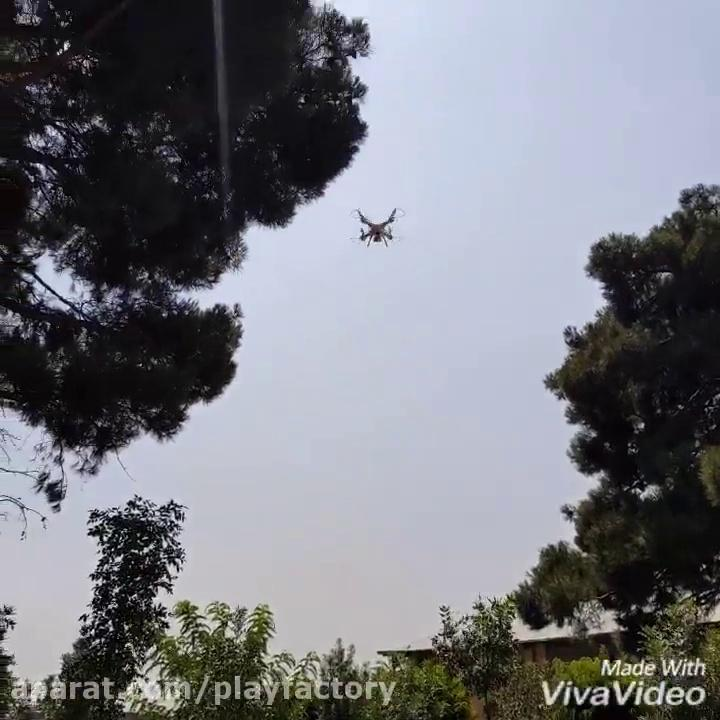drone: (346, 203, 409, 249)
